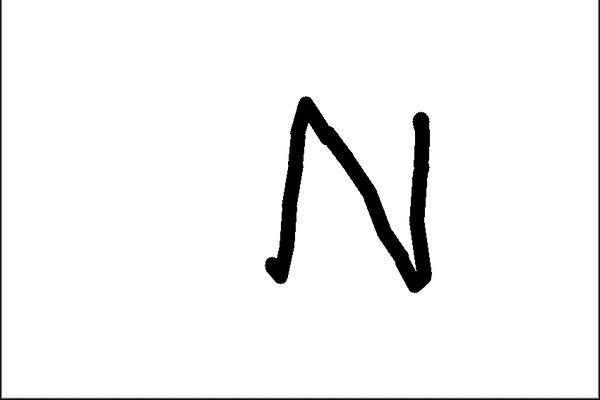N: (261, 86, 437, 298)
